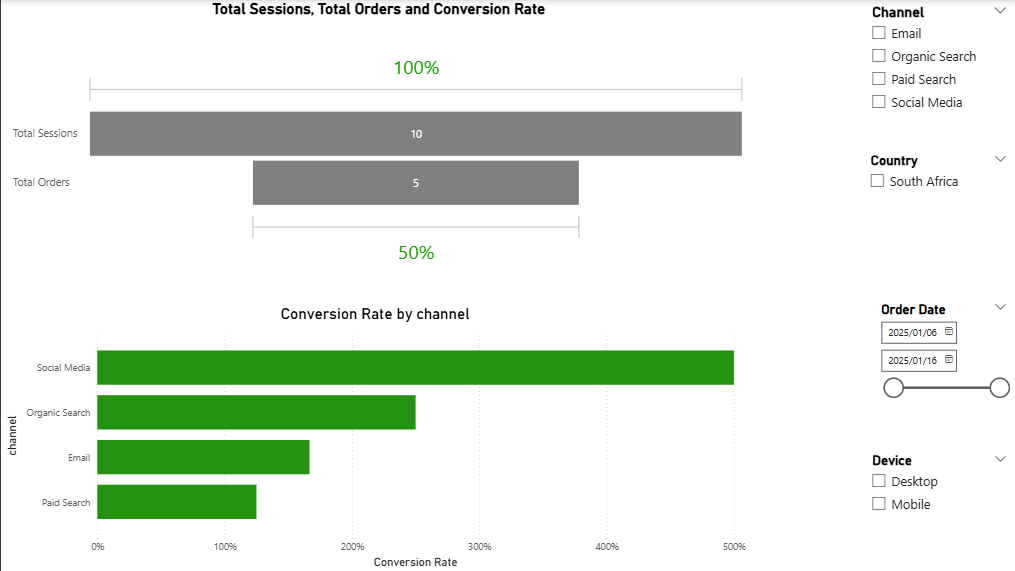

This screenshot's page, from the dashboard's own definition file:
{"tool":"powerbi","page":{"name":"Funnel Analysis","canvas":[1280,720],"ordinal":1},"visuals":[{"type":"funnel","fields":{"Y":["Measures (2).Total Sessions","Measures (2).Total Orders"]},"box":[9.4,0,933.6,374.2],"z":0},{"type":"barChart","fields":{"Category":["sessions.channel"],"Y":["Measures (2).Conversion Rate"]},"box":[0,383.6,943,336.4],"z":1000},{"type":"slicer","fields":{"Values":["sessions.device"]},"box":[1084.7,565,194.6,155],"z":1001},{"type":"slicer","fields":{"Values":["orders.order_date"]},"box":[1096.1,374.2,183.3,155],"z":1002},{"type":"slicer","fields":{"Values":["users.country"]},"box":[1082.8,187.1,196.5,155],"z":1003},{"type":"slicer","fields":{"Values":["sessions.channel"]},"box":[1084.7,0,194.6,155],"z":1004}]}

Visuals, with their boxes in screenshot pixels (x1, y1, x2, y2), scaled from the page's 1280x720 canvas onto the 1015x571 screenshot:
funnel - Measures (2).Total Sessions x Measures (2).Total Orders: [7, 0, 748, 297]
barChart - sessions.channel x Measures (2).Conversion Rate: [0, 304, 748, 570]
slicer - sessions.device: [860, 448, 1014, 570]
slicer - orders.order_date: [869, 297, 1014, 420]
slicer - users.country: [859, 148, 1014, 271]
slicer - sessions.channel: [860, 0, 1014, 123]
